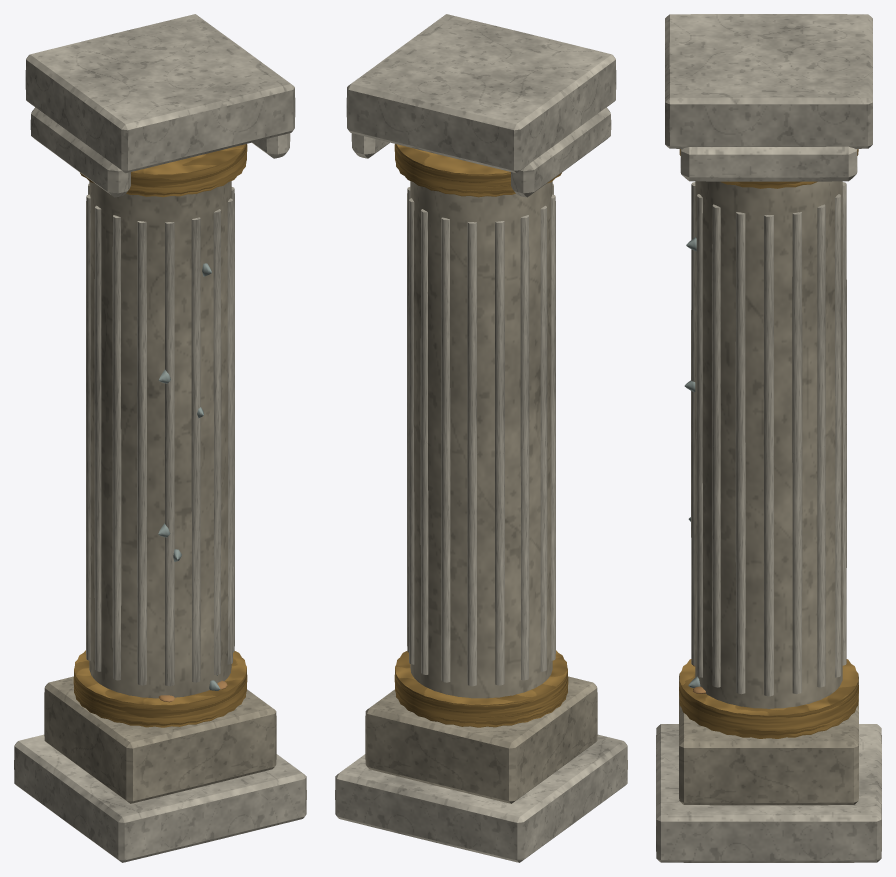
The picture shows the model from 3 angles, left to right: view 1: azimuth 30°, elevation 25°; view 2: azimuth 150°, elevation 25°; view 3: azimuth 270°, elevation 25°; orthographic projection. The views are drawn at different scales.
Visible parts, largest first — view 1: carved-limestone-mouldings, honed-limestone, aged-bronze; view 2: carved-limestone-mouldings, honed-limestone, aged-bronze; view 3: carved-limestone-mouldings, honed-limestone, aged-bronze.
Boxes of the visible parts, <box> form: carved-limestone-mouldings: <box>14,14,306,862</box>; honed-limestone: <box>44,181,276,803</box>; aged-bronze: <box>73,144,247,727</box>; carved-limestone-mouldings: <box>335,14,627,862</box>; honed-limestone: <box>365,181,597,803</box>; aged-bronze: <box>394,144,568,727</box>; carved-limestone-mouldings: <box>656,14,881,862</box>; honed-limestone: <box>679,181,858,805</box>; aged-bronze: <box>679,149,858,738</box>.
Size of the model in its own units: 0.64 by 2.38 by 0.64.
Materials: 5 (3 with a texture image).
